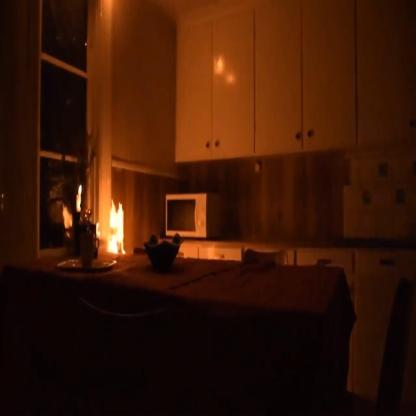fire: (104, 193, 128, 259), (77, 182, 84, 196)
